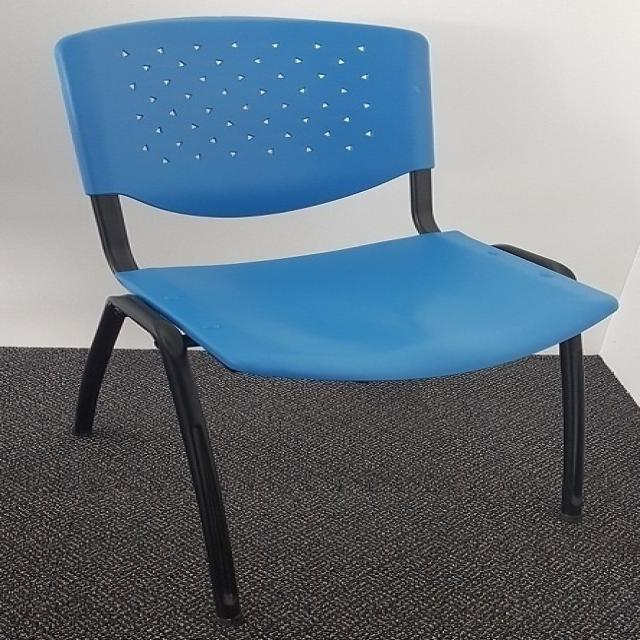chair: (51, 12, 622, 624)
